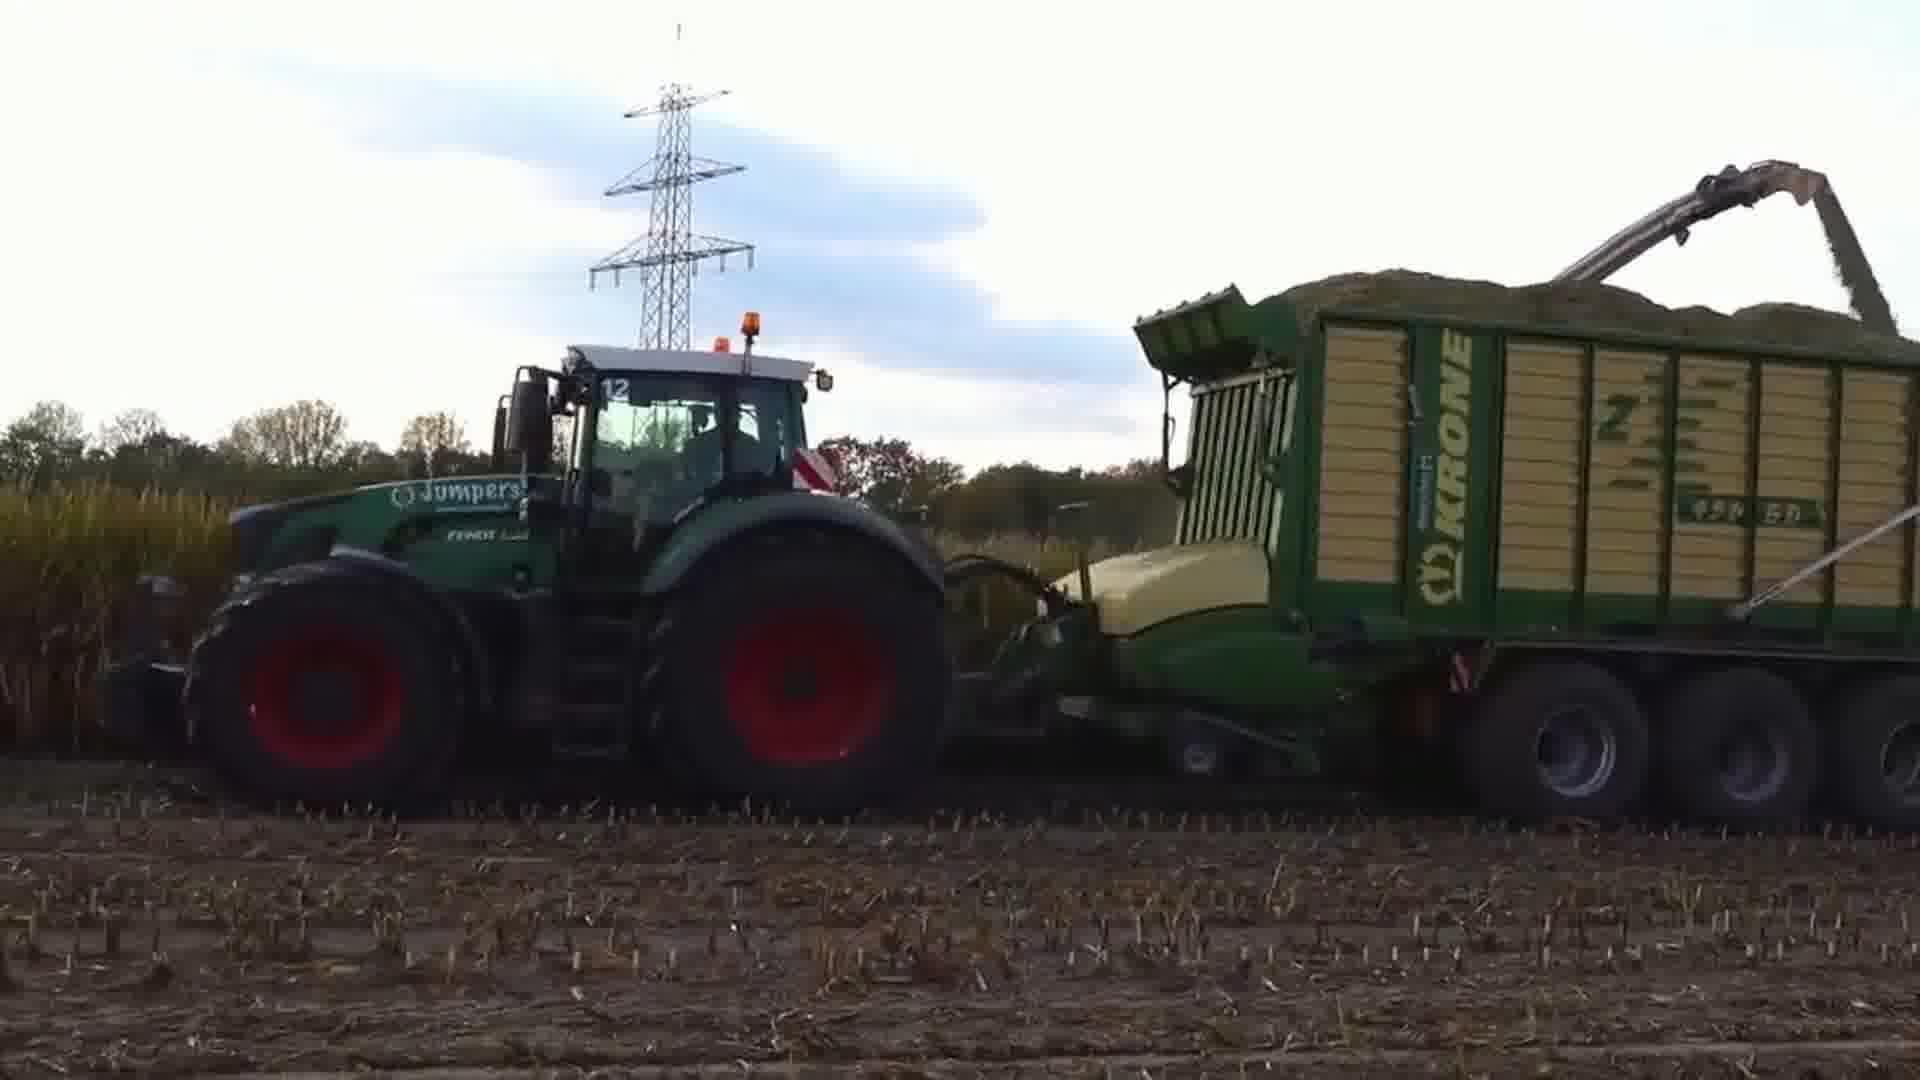tractor: (119, 256, 974, 819)
trailer: (1015, 252, 1920, 848)
